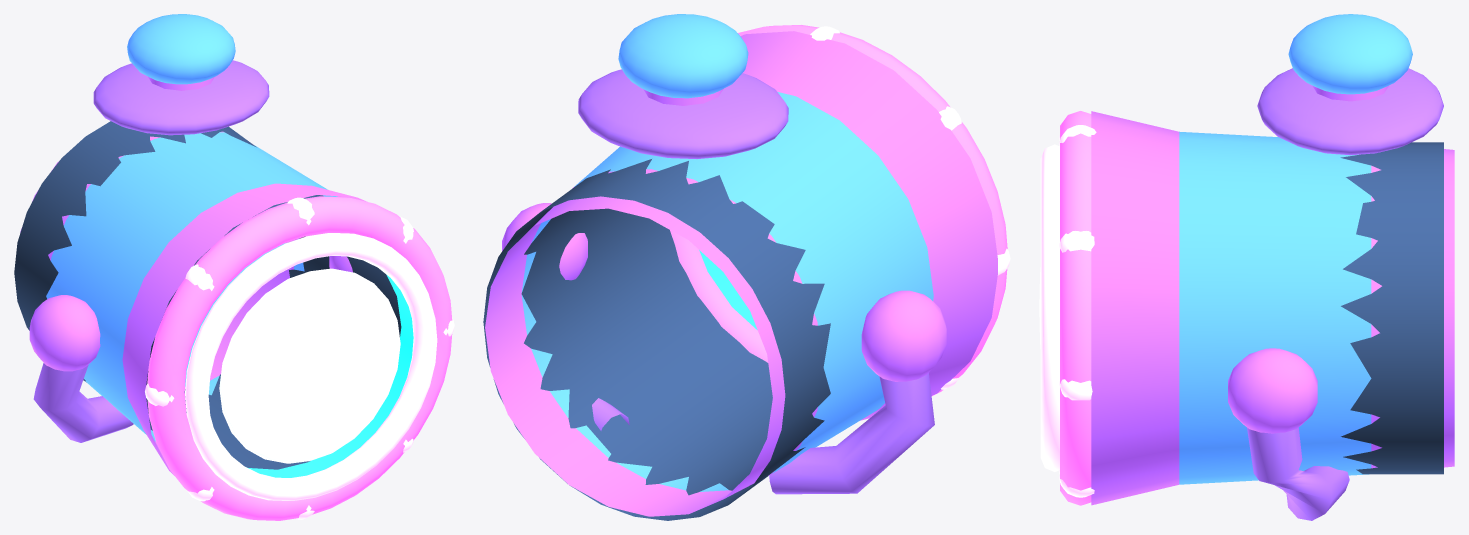
File: SpalakhSpotlightNeon_v094.glb
3 views of the same model, side by side, from view 1: azimuth 30°, elevation 25°; view 2: azimuth 150°, elevation 25°; view 3: azimuth 270°, elevation 25° (orthographic). The views are drawn at different scales.
Size of the model in its own units: 0.9136 by 0.991 by 0.7996.
